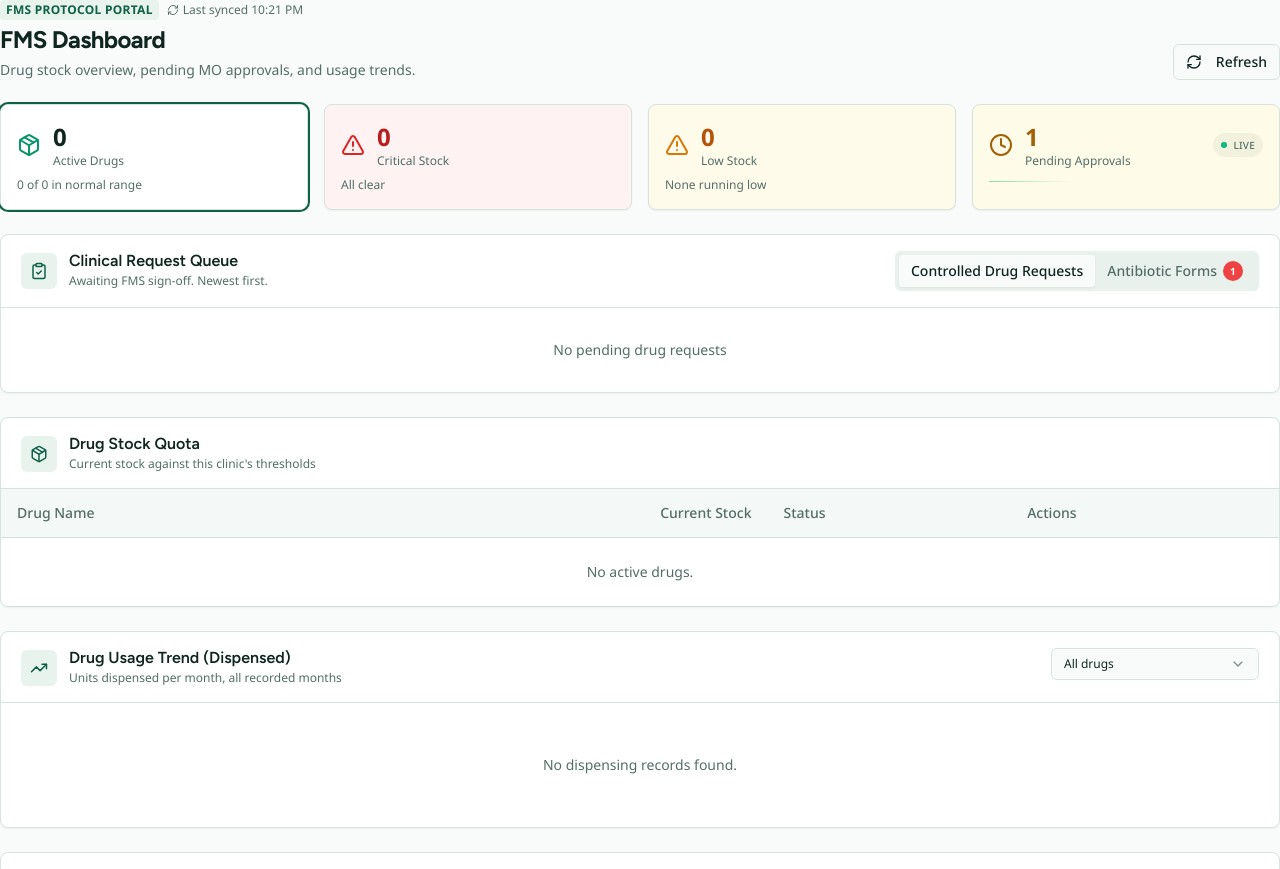
Test: FmsDashboard sections › opens the full form on Review & Approve, not just a name/diagnosis summary
What coordinates should you click on to do the following:
click the tab "Antibiotic Forms 1"
I would click on:
 (1175, 271)
Its box is [1095,255,1255,287].
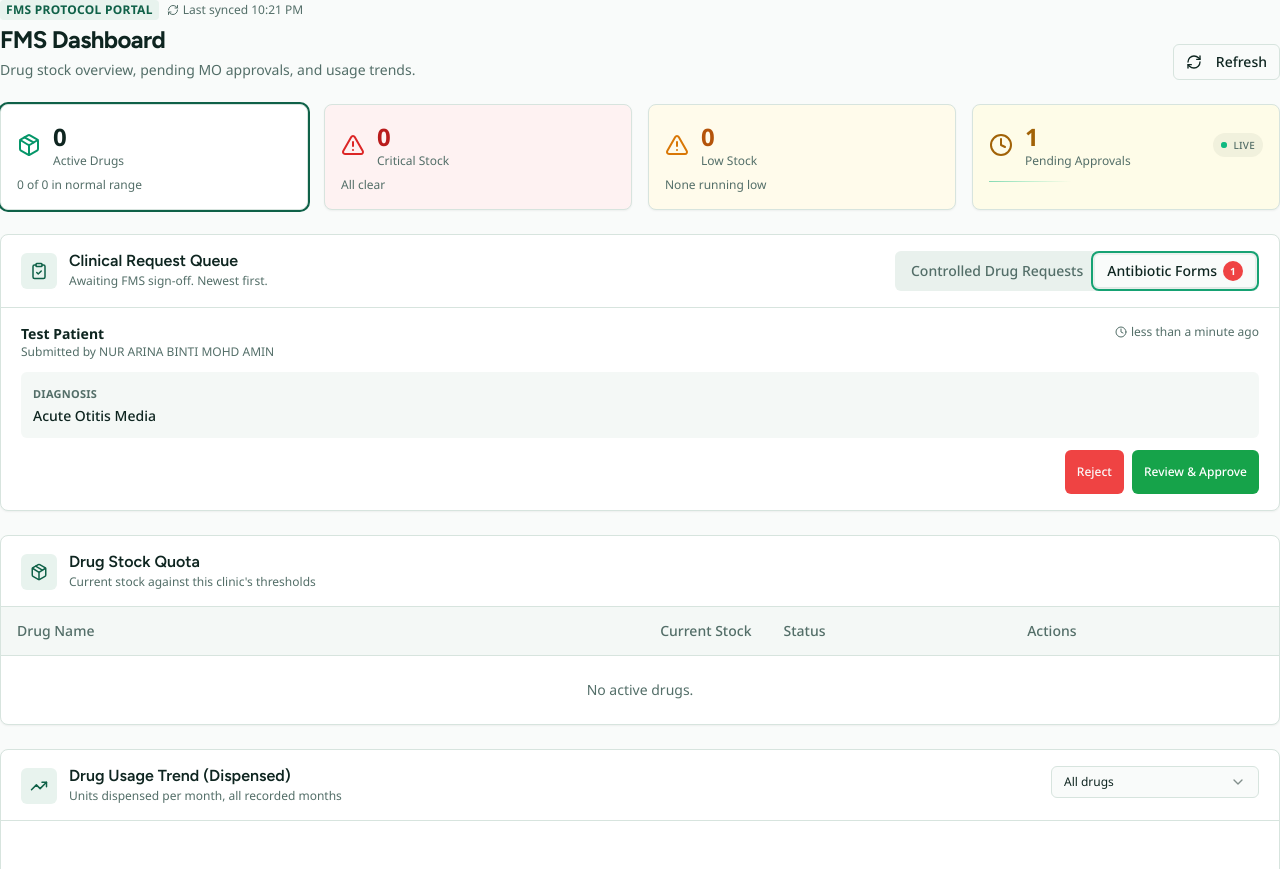
What coordinates should you click on to do the following:
click the button "Review & Approve"
I would click on:
 (1195, 472)
Its box is [1132,450,1259,494].
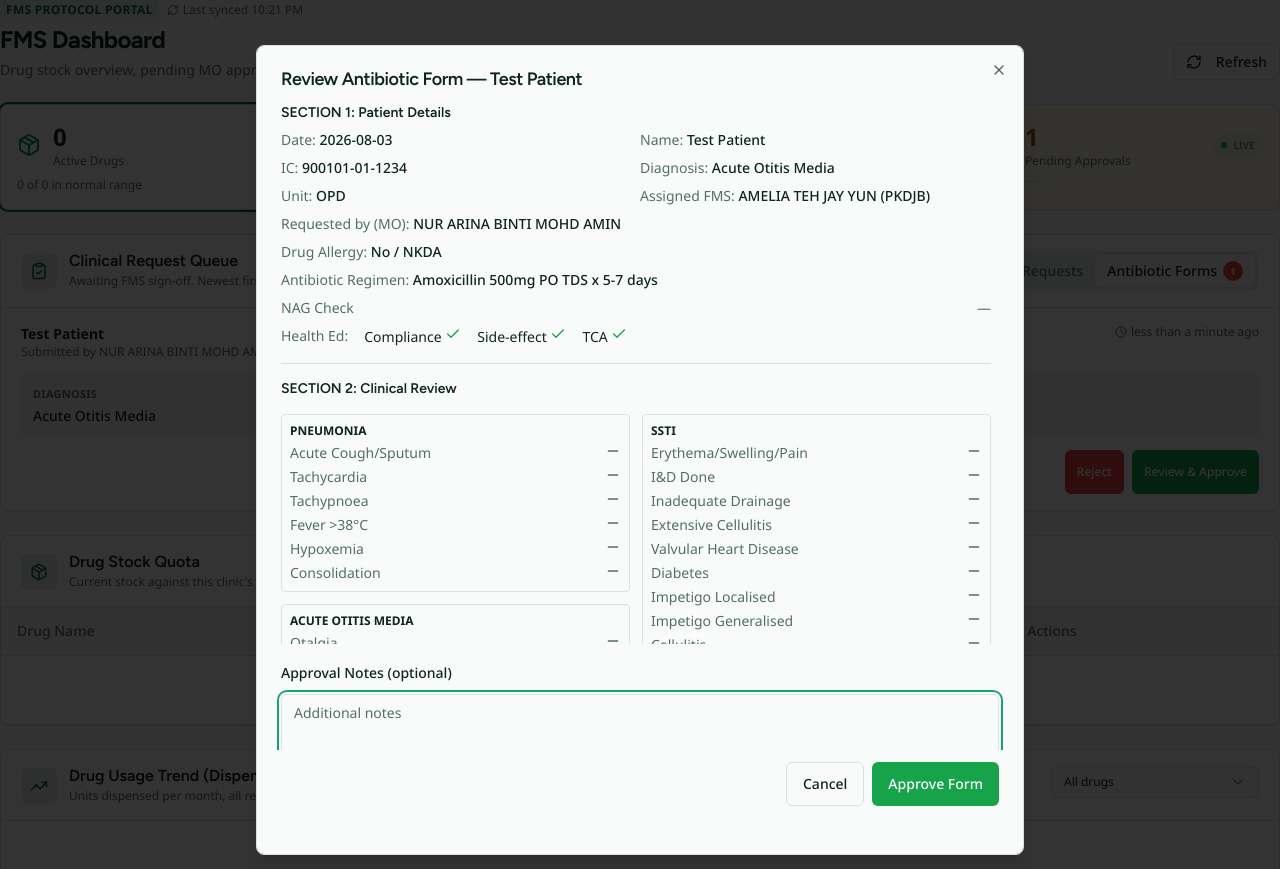
Now the heading "Review Antibiotic Form — Test Patient" is shown, box [281,68,582,90]
Now the text "Amoxicillin 500mg PO TDS x 5-7 days" is shown, box [413,270,658,289]
Now the text box with placeholder "Additional notes" is shown, box [281,694,999,774]
